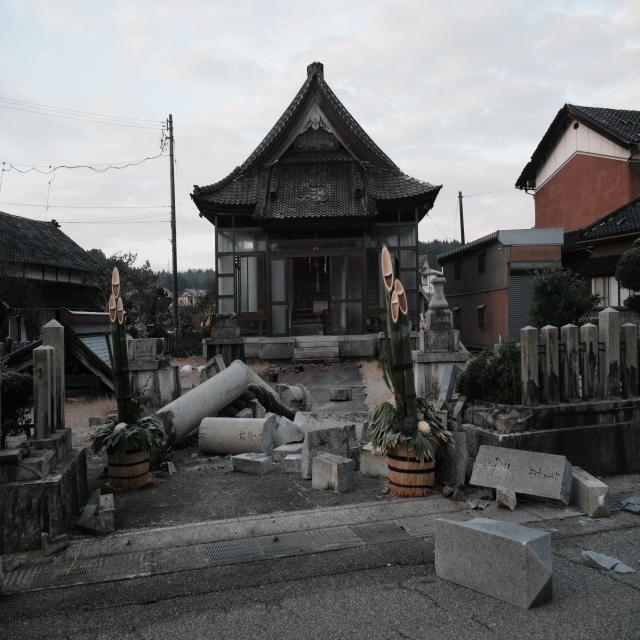damage: (400, 377, 640, 638), (109, 345, 402, 552)
